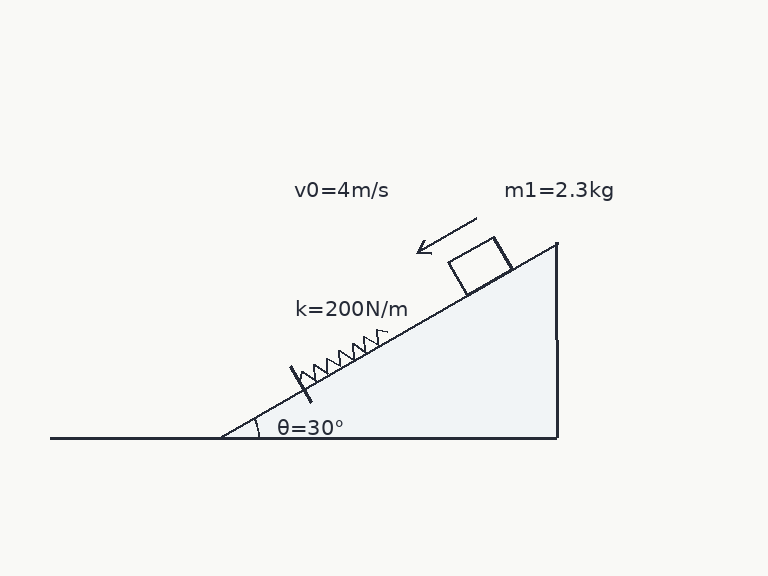block: (447, 235, 514, 297)
ramp: (217, 241, 559, 440)
spring: (297, 326, 389, 383)
